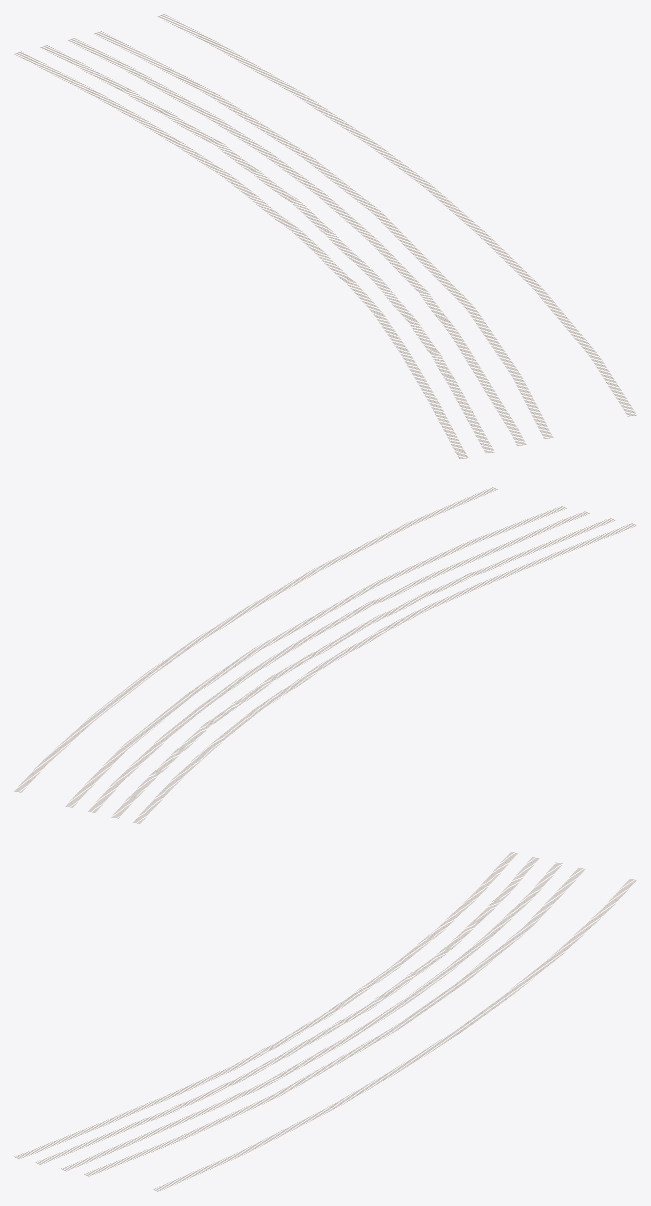
The model's file is c_1631_17826_rail_sleeper.glb.
3 renders of one model, top to bottom at view 1: azimuth 30°, elevation 25°; view 2: azimuth 150°, elevation 25°; view 3: azimuth 330°, elevation 25°, orthographic. The views are drawn at different scales.
Visible parts, largest first — view 1: geometry_0; view 2: geometry_0; view 3: geometry_0.
Boxes of the visible parts, bbox=[...] form: geometry_0: bbox=[14, 14, 636, 458]; geometry_0: bbox=[14, 487, 636, 823]; geometry_0: bbox=[14, 852, 636, 1191].
Size of the model in its own units: 72.29 by 1.91 by 256.
